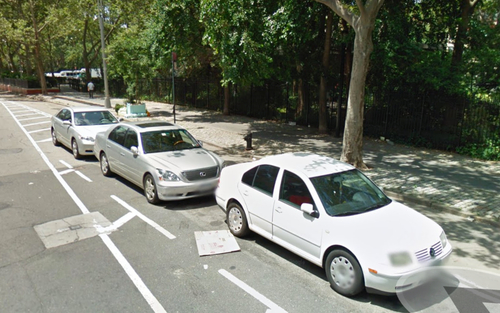car: (214, 150, 452, 296), (94, 122, 220, 203), (50, 105, 120, 157)
